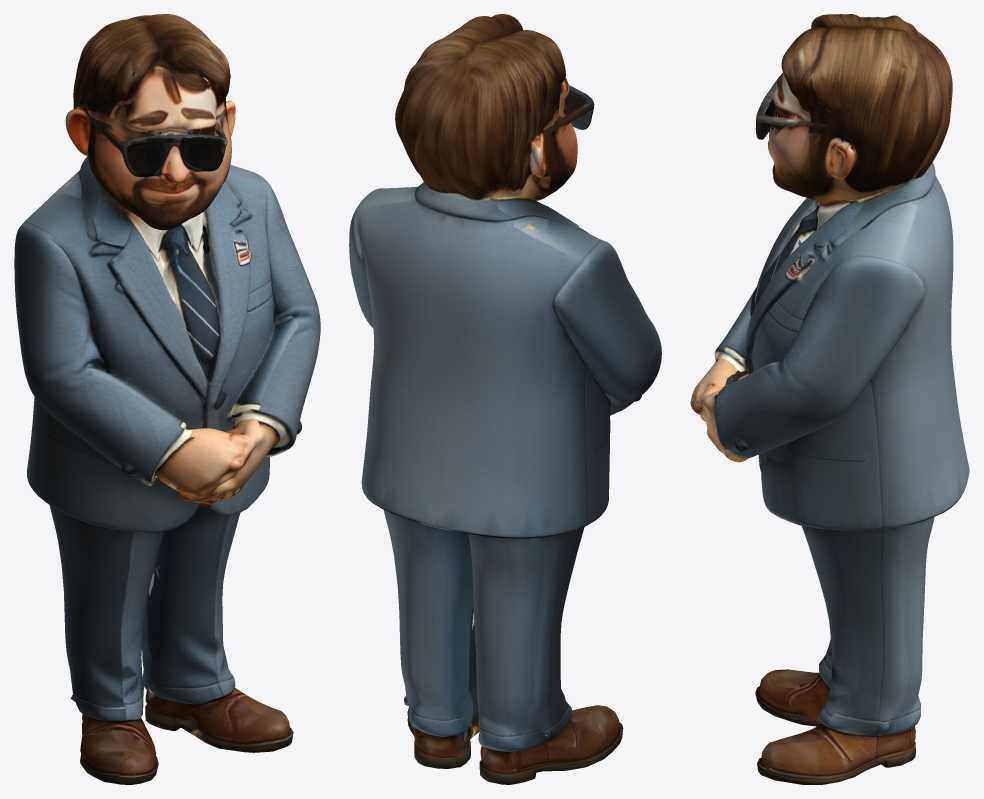
3 renders of one model, left to right at view 1: azimuth 30°, elevation 25°; view 2: azimuth 150°, elevation 25°; view 3: azimuth 270°, elevation 25°, orthographic.
Visible parts, largest first — view 1: Man; view 2: Man; view 3: Man.
Boxes of the visible parts, x1,y1,x2,y2 form: Man: (14,14,320,784); Man: (349,14,661,784); Man: (690,14,969,784).
Bounding box in the file's own units: 0.723 × 1.75 × 0.6168.
Materials: 1 (1 with a texture image).
